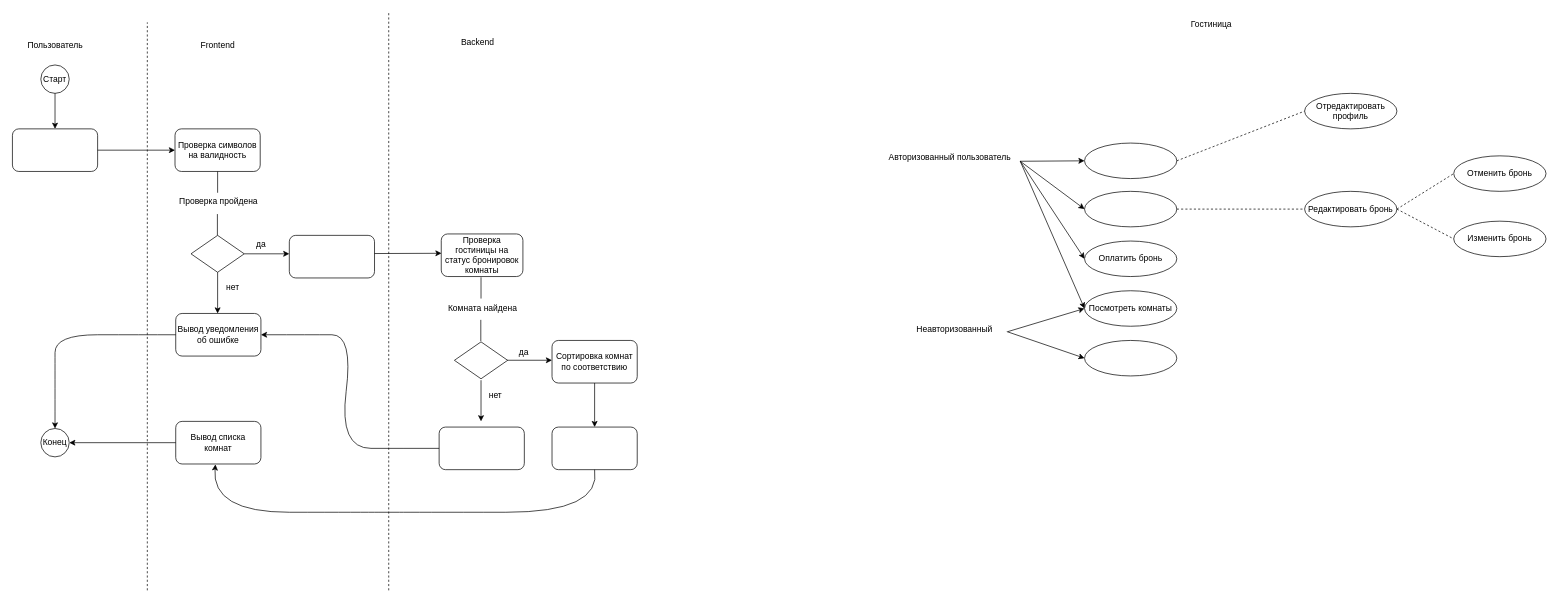
This 1558x604 diagram has some shape labels left out. The centre of each missing label's shape, as x and y in pixels:
"Авторизоваться" goes at [1130,160].
"Ввод символов в поисковую строку" goes at [55,149].
"Зарегистрироваться" goes at [1130,358].
"Отправка поискового запроса" goes at [332,256].
"Отправка списка комнат" goes at [594,448].
"Отправка уведомлений об занятости комнат" goes at [481,448].
"Оформить бронь" goes at [1130,209].
